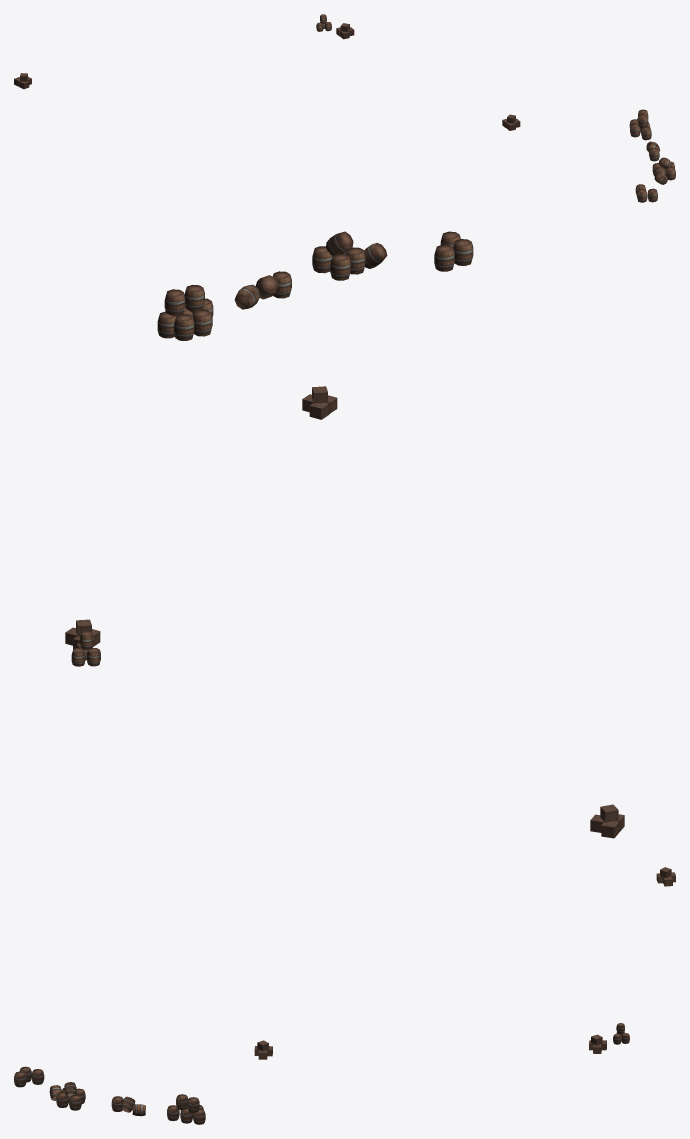
File: mutong01.FBX
3 renders of one model, top to bottom at view 1: azimuth 30°, elevation 25°; view 2: azimuth 150°, elevation 25°; view 3: azimuth 270°, elevation 25°, orthographic. The views are drawn at different scales.
Visible parts, largest first — view 1: mutong01; view 2: mutong01; view 3: mutong01.
Part boxes in pixels (<box>): mutong01: <box>14,14,675,202</box>; mutong01: <box>65,231,624,838</box>; mutong01: <box>14,867,675,1124</box>.
Bounding box in the file's own units: 8523 × 391 × 9671.
